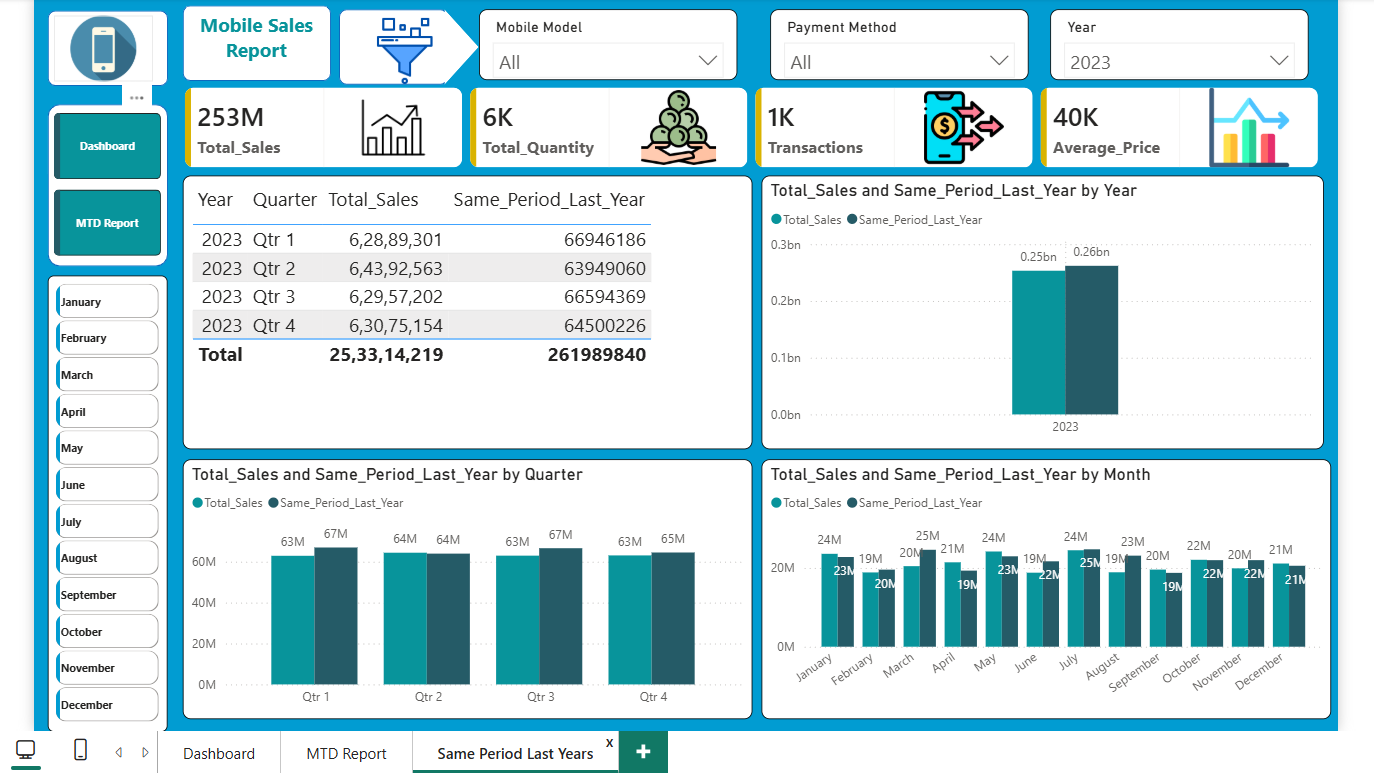

The dashboard page shown, as its layout file describes it:
{"tool":"powerbi","page":{"name":"Same Period Last Years","canvas":[1280,720],"ordinal":2},"visuals":[{"type":"shape","box":[299.1,11,107,74.1],"z":0},{"type":"shape","box":[13.7,12.3,118,74.1],"z":1000},{"type":"shape","box":[13.7,104.3,118,159.2],"z":3000},{"type":"cardVisual","fields":{"Data":["Mobiles_Sales_Report.Total_Sales","Mobiles_Sales_Report.Total_Quantity","Mobiles_Sales_Report.Transactions","Mobiles_Sales_Report.Average_Price"]},"box":[131.7,71.4,1148.5,112.5],"z":4000},{"type":"slicer","fields":{"Values":["Mobiles_Sales_Report.Mobile Model"]},"box":[436.4,11,253.9,70],"z":5000},{"type":"slicer","fields":{"Values":["Mobiles_Sales_Report.Payment Method"]},"box":[723.2,11,253.9,70],"z":6000},{"type":"slicer","fields":{"Values":["Custom_Calender.Date.Variation.Date Hierarchy.Year"]},"box":[997.6,11,253.9,70],"z":7000},{"type":"shape","box":[369.1,11,67.2,74.1],"z":8000},{"type":"image","box":[323.8,17.8,79.6,67.2],"z":9000},{"type":"shape","box":[145.5,6.9,145.5,74.1],"z":10000},{"type":"textbox","box":[149.6,8.2,137.2,70],"z":11000},{"type":"advancedSlicerVisual","fields":{"Values":["Custom_Calender.Date.Variation.Date Hierarchy.Month"]},"box":[13.5,272.4,117.8,447.9],"z":12000},{"type":"tableEx","fields":{"Values":["Custom_Calender.Date.Variation.Date Hierarchy.Year","Custom_Calender.Date.Variation.Date Hierarchy.Quarter","Mobiles_Sales_Report.Total_Sales","Mobiles_Sales_Report.Same_Period_Last_Year"]},"box":[146,174.2,559.5,268.7],"z":13000},{"type":"clusteredColumnChart","fields":{"Category":["Custom_Calender.Date.Variation.Date Hierarchy.Year"],"Y":["Mobiles_Sales_Report.Total_Sales","Mobiles_Sales_Report.Same_Period_Last_Year"]},"box":[714.1,174.2,552.2,268.7],"z":14000},{"type":"clusteredColumnChart","fields":{"Y":["Mobiles_Sales_Report.Total_Sales","Mobiles_Sales_Report.Same_Period_Last_Year"],"Category":["Custom_Calender.Date.Variation.Date Hierarchy.Quarter"]},"box":[146,452.8,559.5,255.2],"z":15000},{"type":"clusteredColumnChart","fields":{"Y":["Mobiles_Sales_Report.Total_Sales","Mobiles_Sales_Report.Same_Period_Last_Year"],"Category":["Custom_Calender.Date.Variation.Date Hierarchy.Month"]},"box":[714.1,452.8,559.5,255.2],"z":16000},{"type":"pageNavigator","box":[19.6,112.9,105.5,141.1],"z":17000},{"type":"image","box":[19.6,17.2,96.9,65],"z":17001}]}

Visuals, with their boxes in screenshot pixels (x1, y1, x2, y2):
shape: (334,8,443,83)
shape: (43,9,163,85)
shape: (43,103,163,265)
cardVisual - Mobiles_Sales_Report.Total_Sales x Mobiles_Sales_Report.Total_Quantity: (163,69,1336,184)
slicer - Mobiles_Sales_Report.Mobile Model: (474,8,733,79)
slicer - Mobiles_Sales_Report.Payment Method: (767,8,1026,79)
slicer - Custom_Calender.Date.Variation.Date Hierarchy.Year: (1047,8,1306,79)
shape: (405,8,474,83)
image: (359,15,441,83)
shape: (177,3,326,79)
textbox: (181,5,321,76)
advancedSlicerVisual - Custom_Calender.Date.Variation.Date Hierarchy.Month: (42,275,163,732)
tableEx - Custom_Calender.Date.Variation.Date Hierarchy.Year x Custom_Calender.Date.Variation.Date Hierarchy.Quarter: (178,174,749,449)
clusteredColumnChart - Custom_Calender.Date.Variation.Date Hierarchy.Year x Mobiles_Sales_Report.Total_Sales: (758,174,1322,449)
clusteredColumnChart - Mobiles_Sales_Report.Total_Sales x Mobiles_Sales_Report.Same_Period_Last_Year: (178,459,749,719)
clusteredColumnChart - Mobiles_Sales_Report.Total_Sales x Mobiles_Sales_Report.Same_Period_Last_Year: (758,459,1329,719)
pageNavigator: (49,112,156,256)
image: (49,14,148,80)
